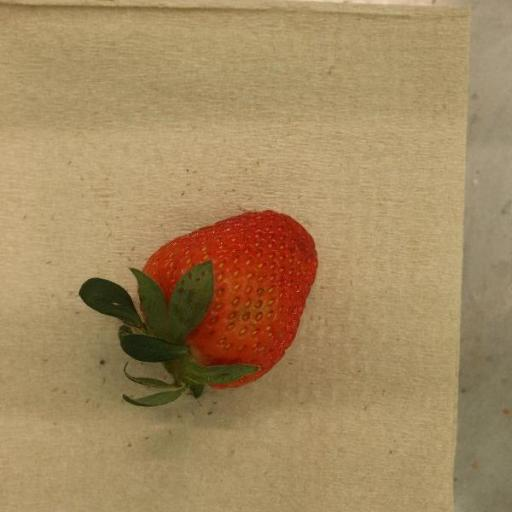Strawberry: (77, 211, 318, 408)
